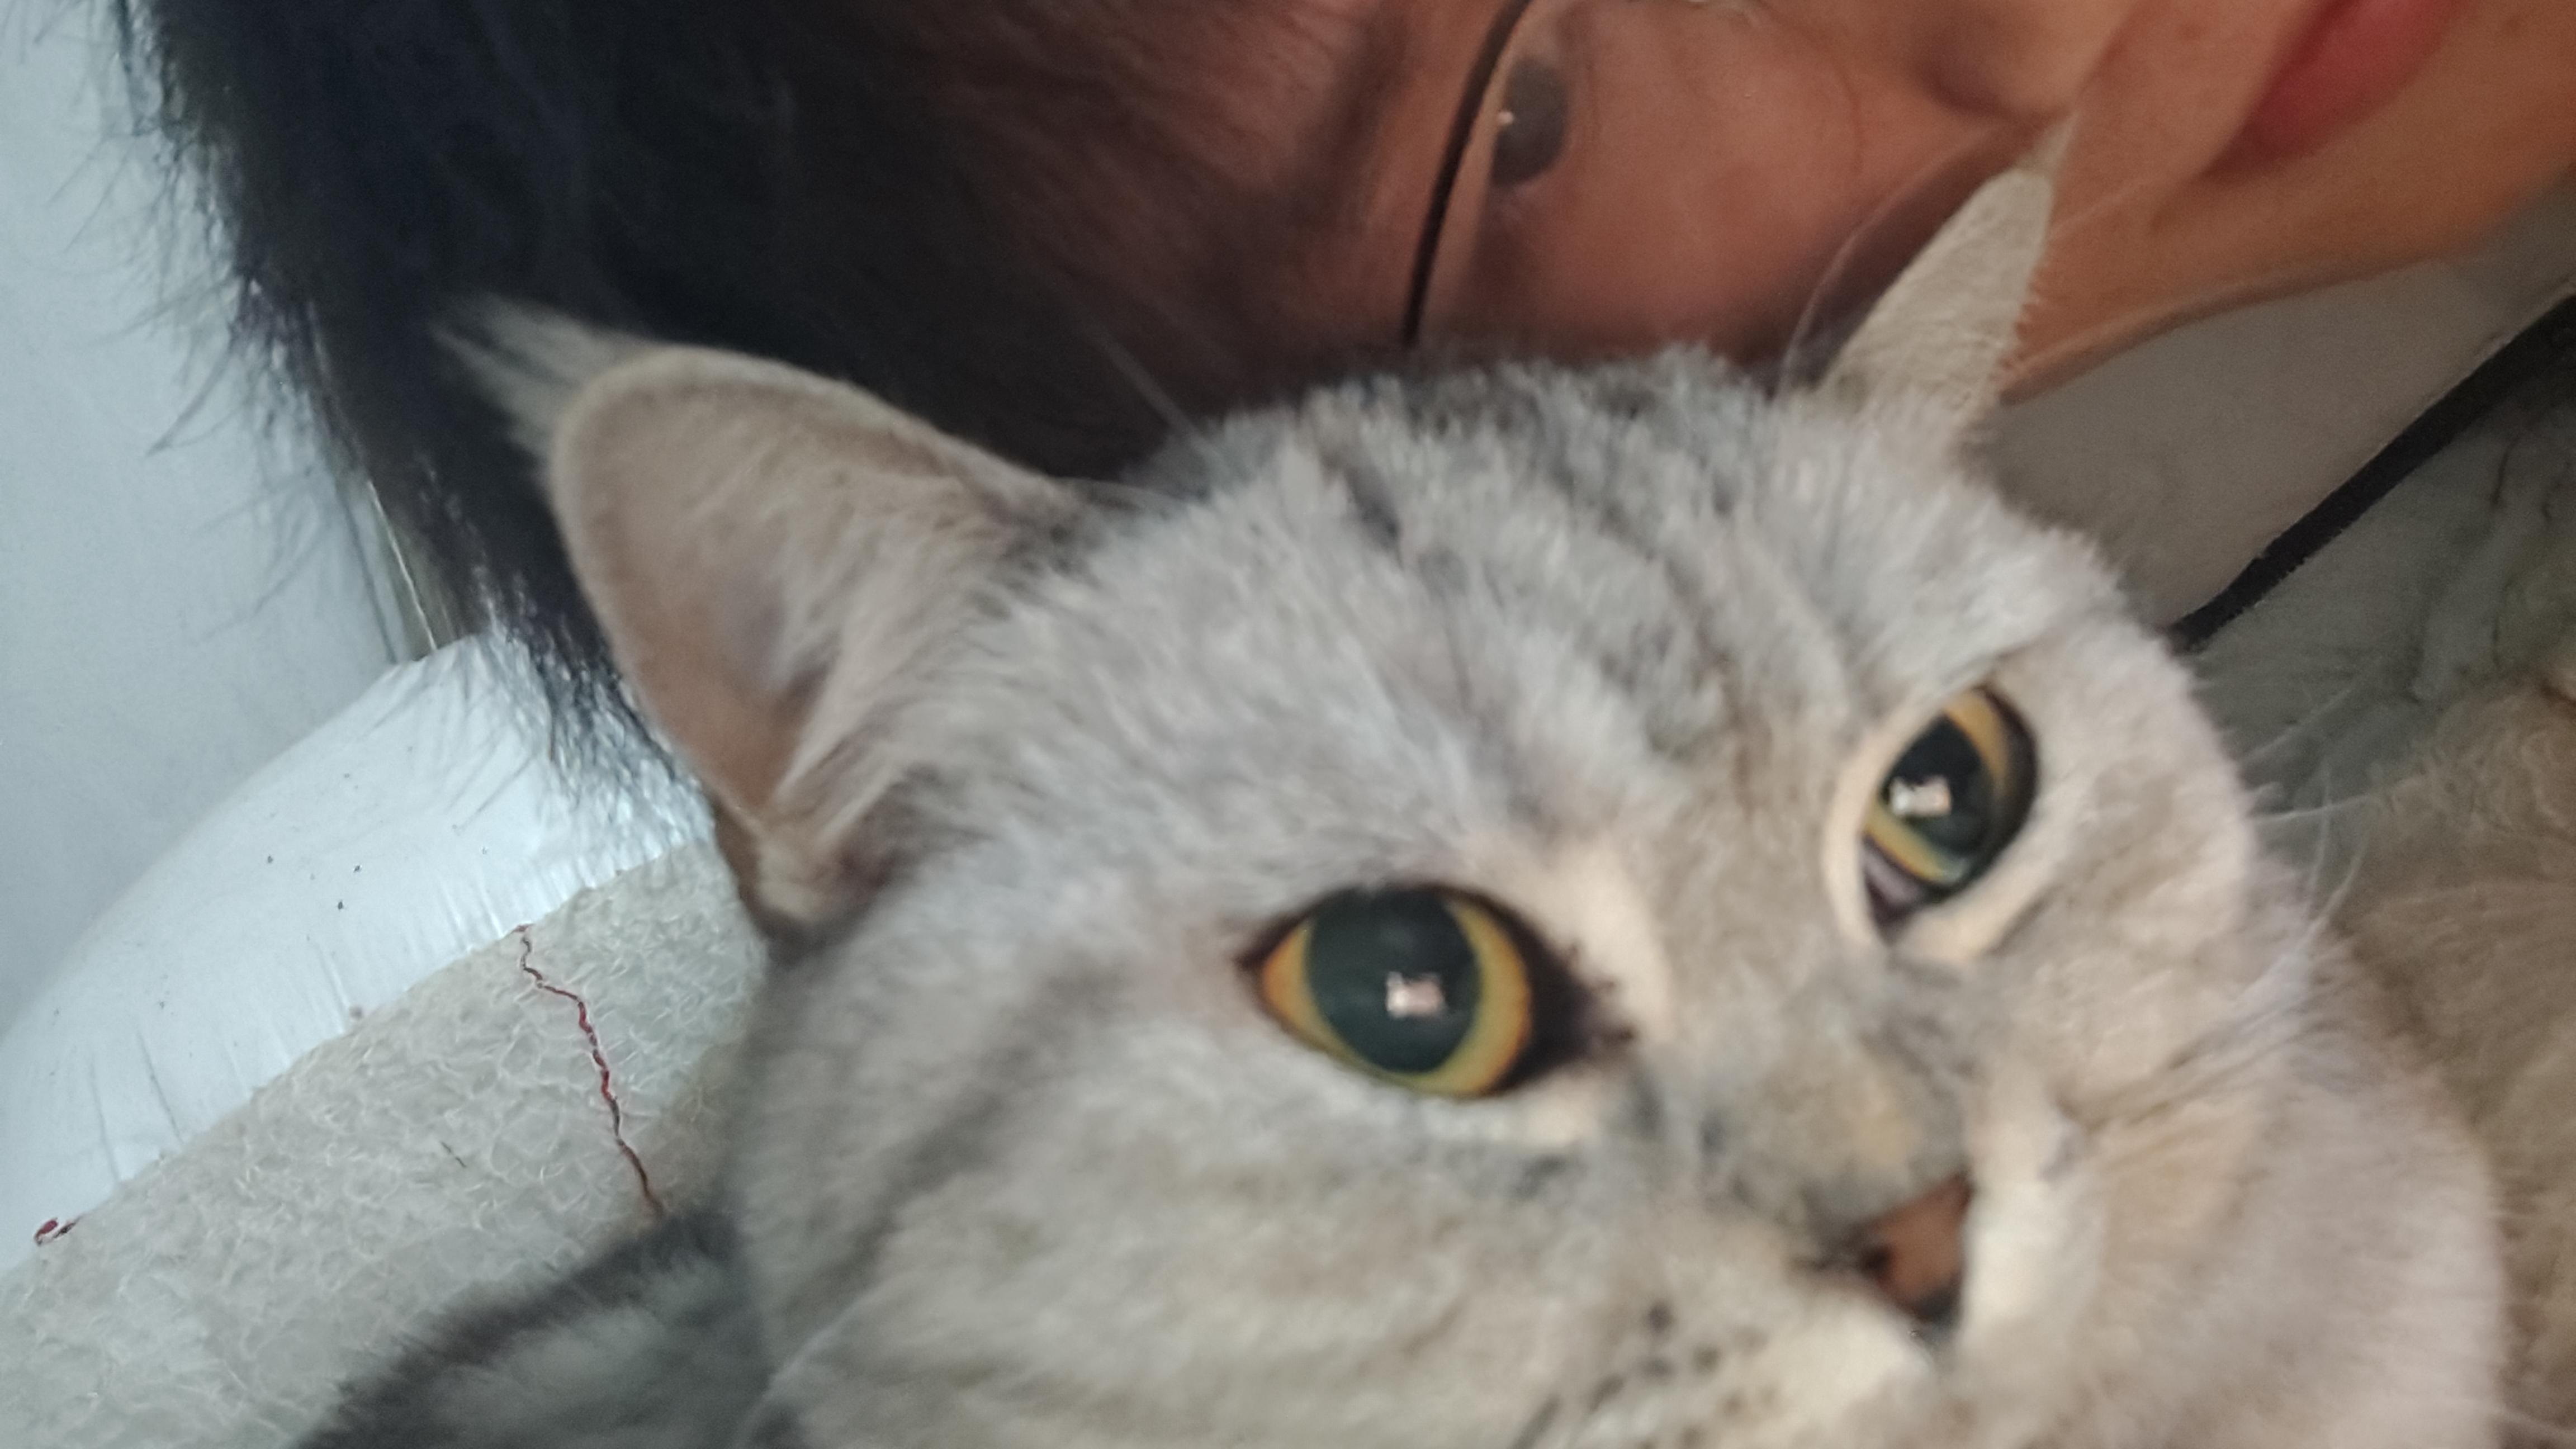white: (623, 386, 2503, 1449)
